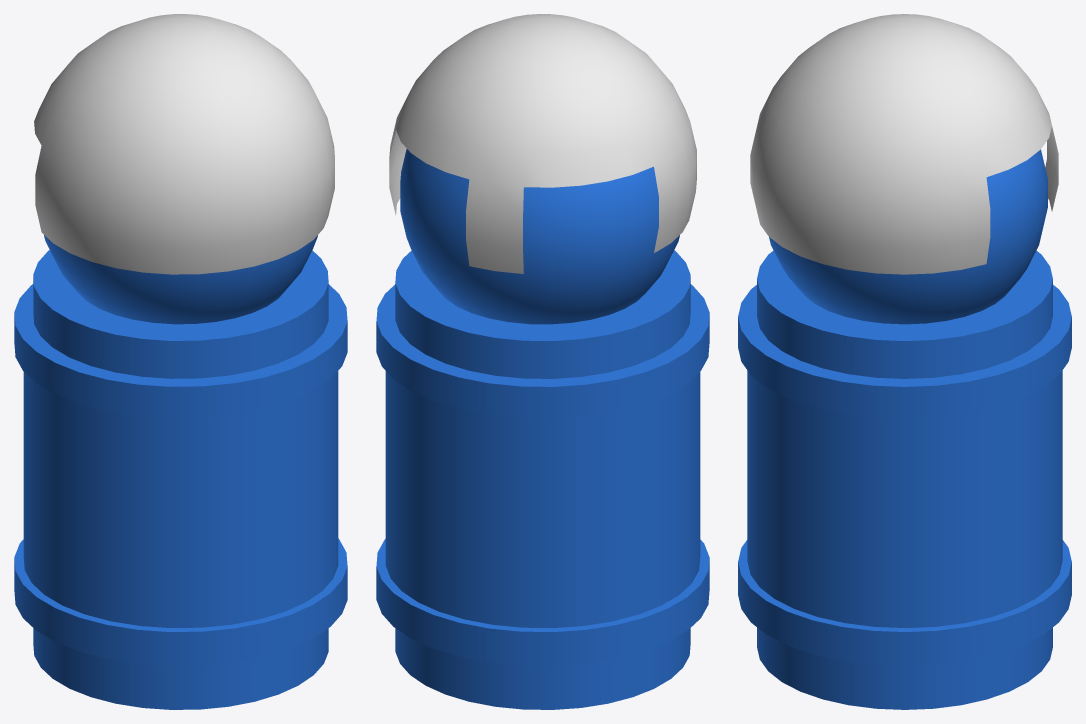
Rendered from unit.fbx.
The picture shows the model from 3 angles, left to right: view 1: azimuth 30°, elevation 25°; view 2: azimuth 150°, elevation 25°; view 3: azimuth 270°, elevation 25°; orthographic projection.
Parts seen in each view (by area): view 1: Icosphere; view 2: Icosphere; view 3: Icosphere.
Boxes of the visible parts, left/top/right/bottom form: Icosphere: left=14, top=14, right=347, bottom=709; Icosphere: left=376, top=14, right=709, bottom=709; Icosphere: left=738, top=14, right=1071, bottom=709.
Bounding box in the file's own units: 200 × 200 × 409.
